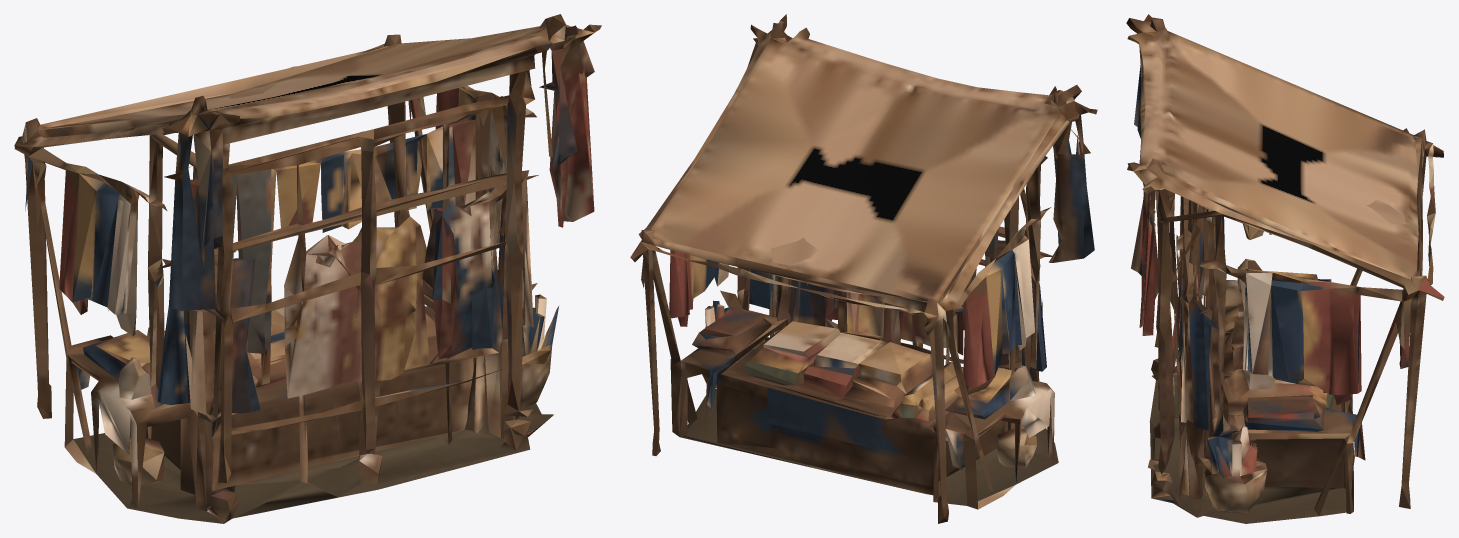
The model's file is 08_Cloth_Garment_Stall_LOD2.fbx.
The picture shows the model from 3 angles, left to right: view 1: azimuth 30°, elevation 25°; view 2: azimuth 150°, elevation 25°; view 3: azimuth 270°, elevation 25°; orthographic projection. The views are drawn at different scales.
Visible parts, largest first — view 1: 08_Cloth_Garment_Stall_L2; view 2: 08_Cloth_Garment_Stall_L2; view 3: 08_Cloth_Garment_Stall_L2.
Part boxes in pixels (x1=…): 08_Cloth_Garment_Stall_L2: x1=14, y1=14, x2=601, y2=523; 08_Cloth_Garment_Stall_L2: x1=630, y1=14, x2=1097, y2=523; 08_Cloth_Garment_Stall_L2: x1=1126, y1=14, x2=1444, y2=523.
Size of the model in its own units: 2.76 by 2.6 by 2.12.
